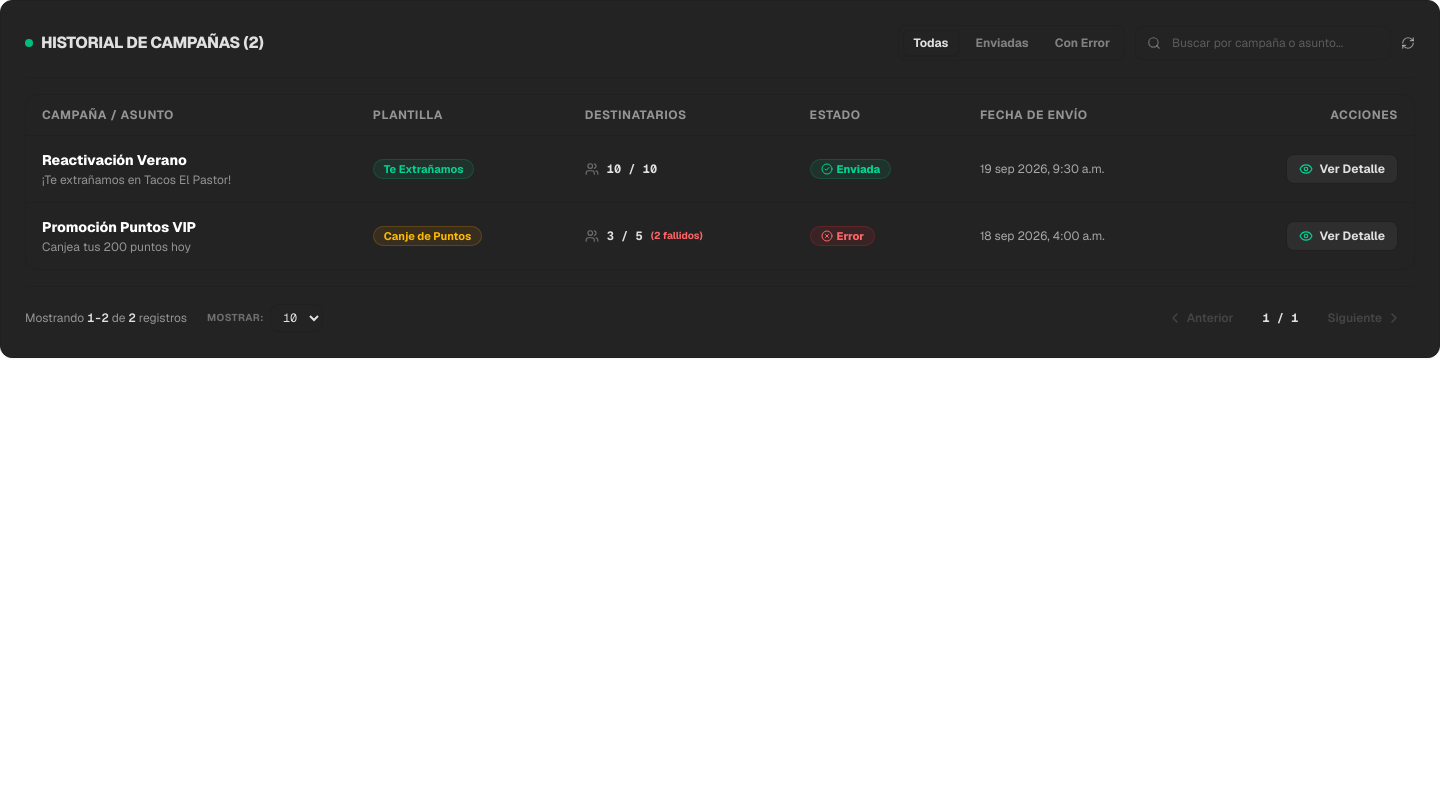
Test: CampaignsHistoryTable Component › should open recipient details modal and show recipient data
Step 1. Click the button with test id "view-campaign-details-camp-1" → (1342, 169), box [1286,154,1398,184]
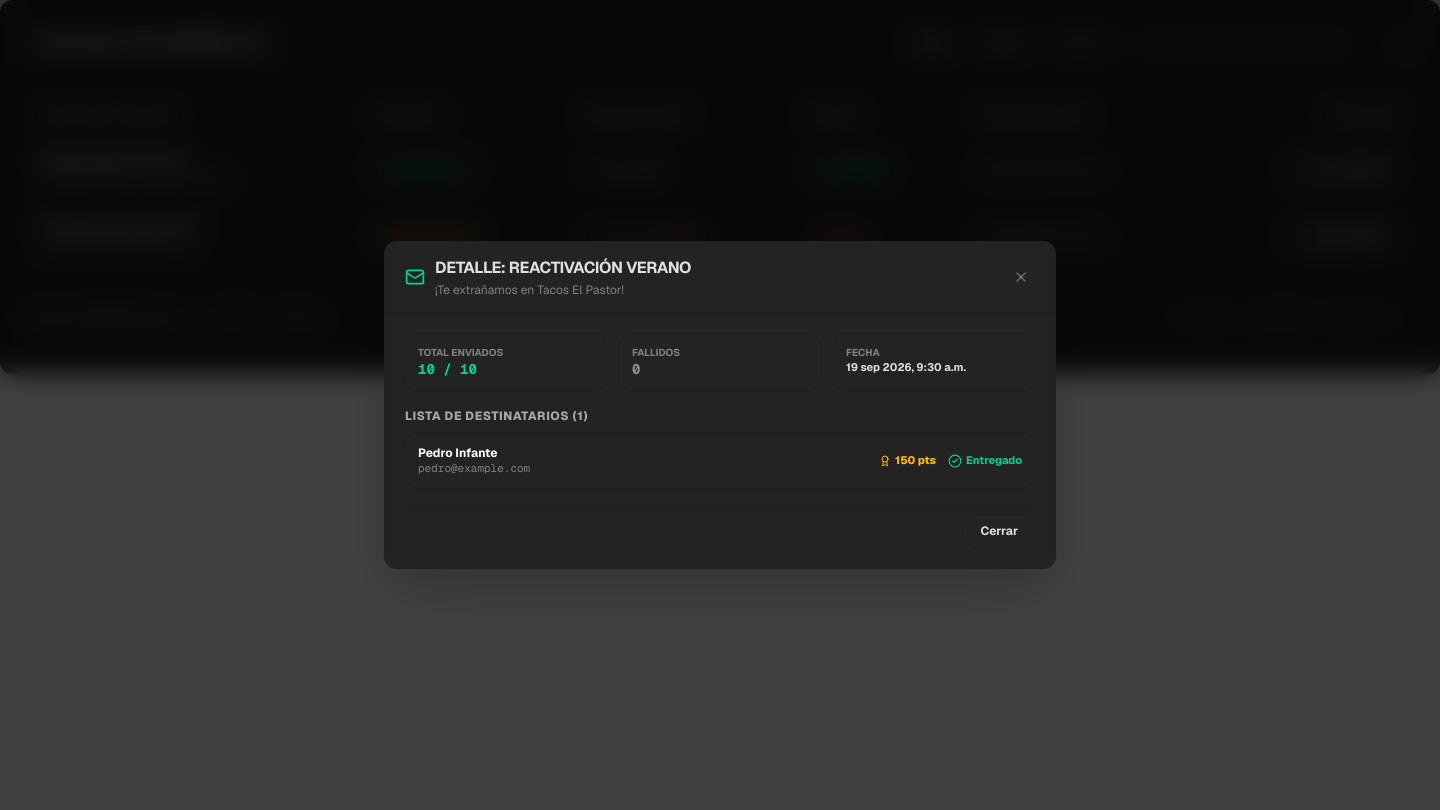
Result: the heading "Detalle: Reactivación Verano" is shown at [435,256,691,280]
Result: the text "Pedro Infante" is shown at [418,445,498,461]
Result: the text "pedro@example.com" is shown at [418,461,530,476]
Step 2. Click the button "Cerrar" → (999, 531), box [964,514,1035,548]
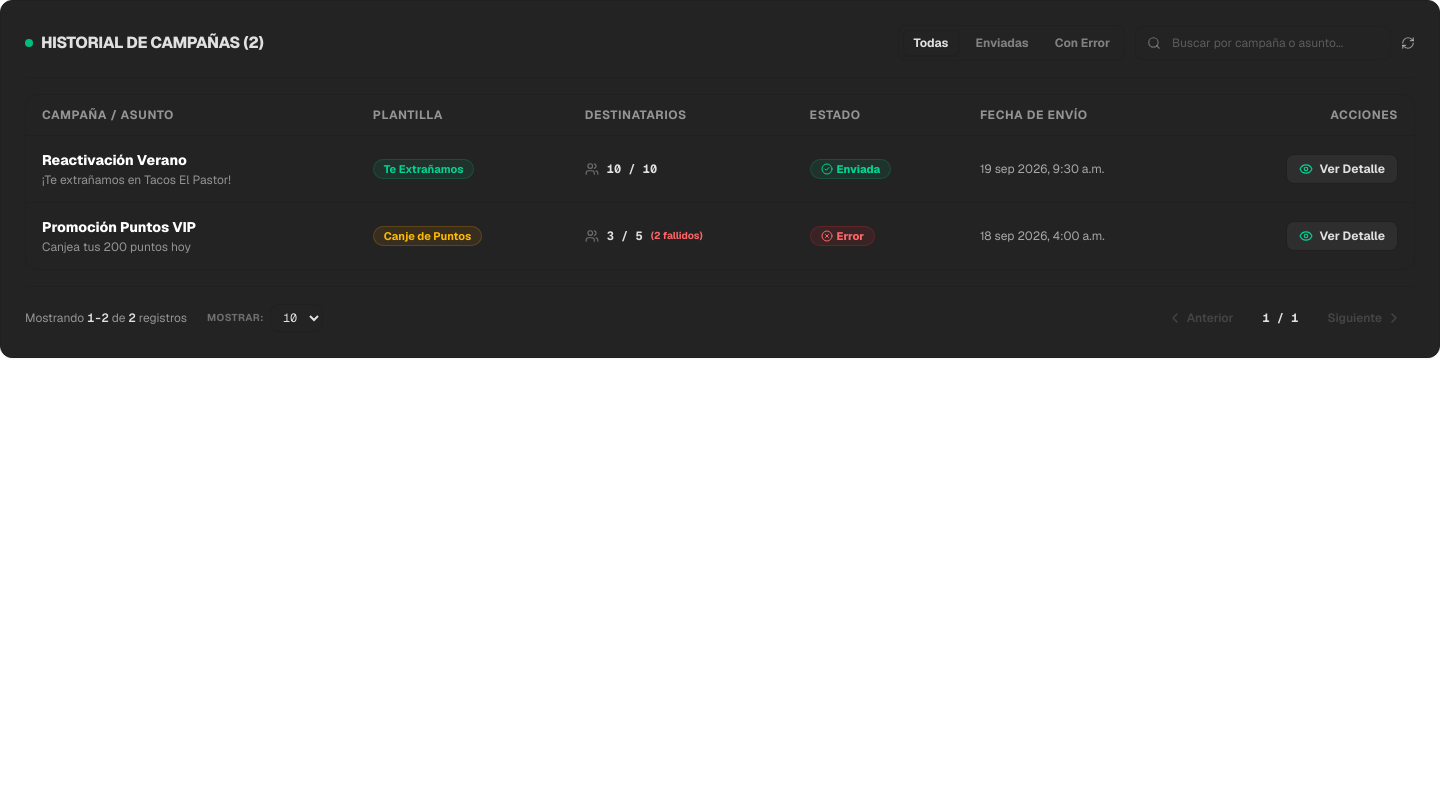
Result: the heading "Detalle: Reactivación Verano" is gone
